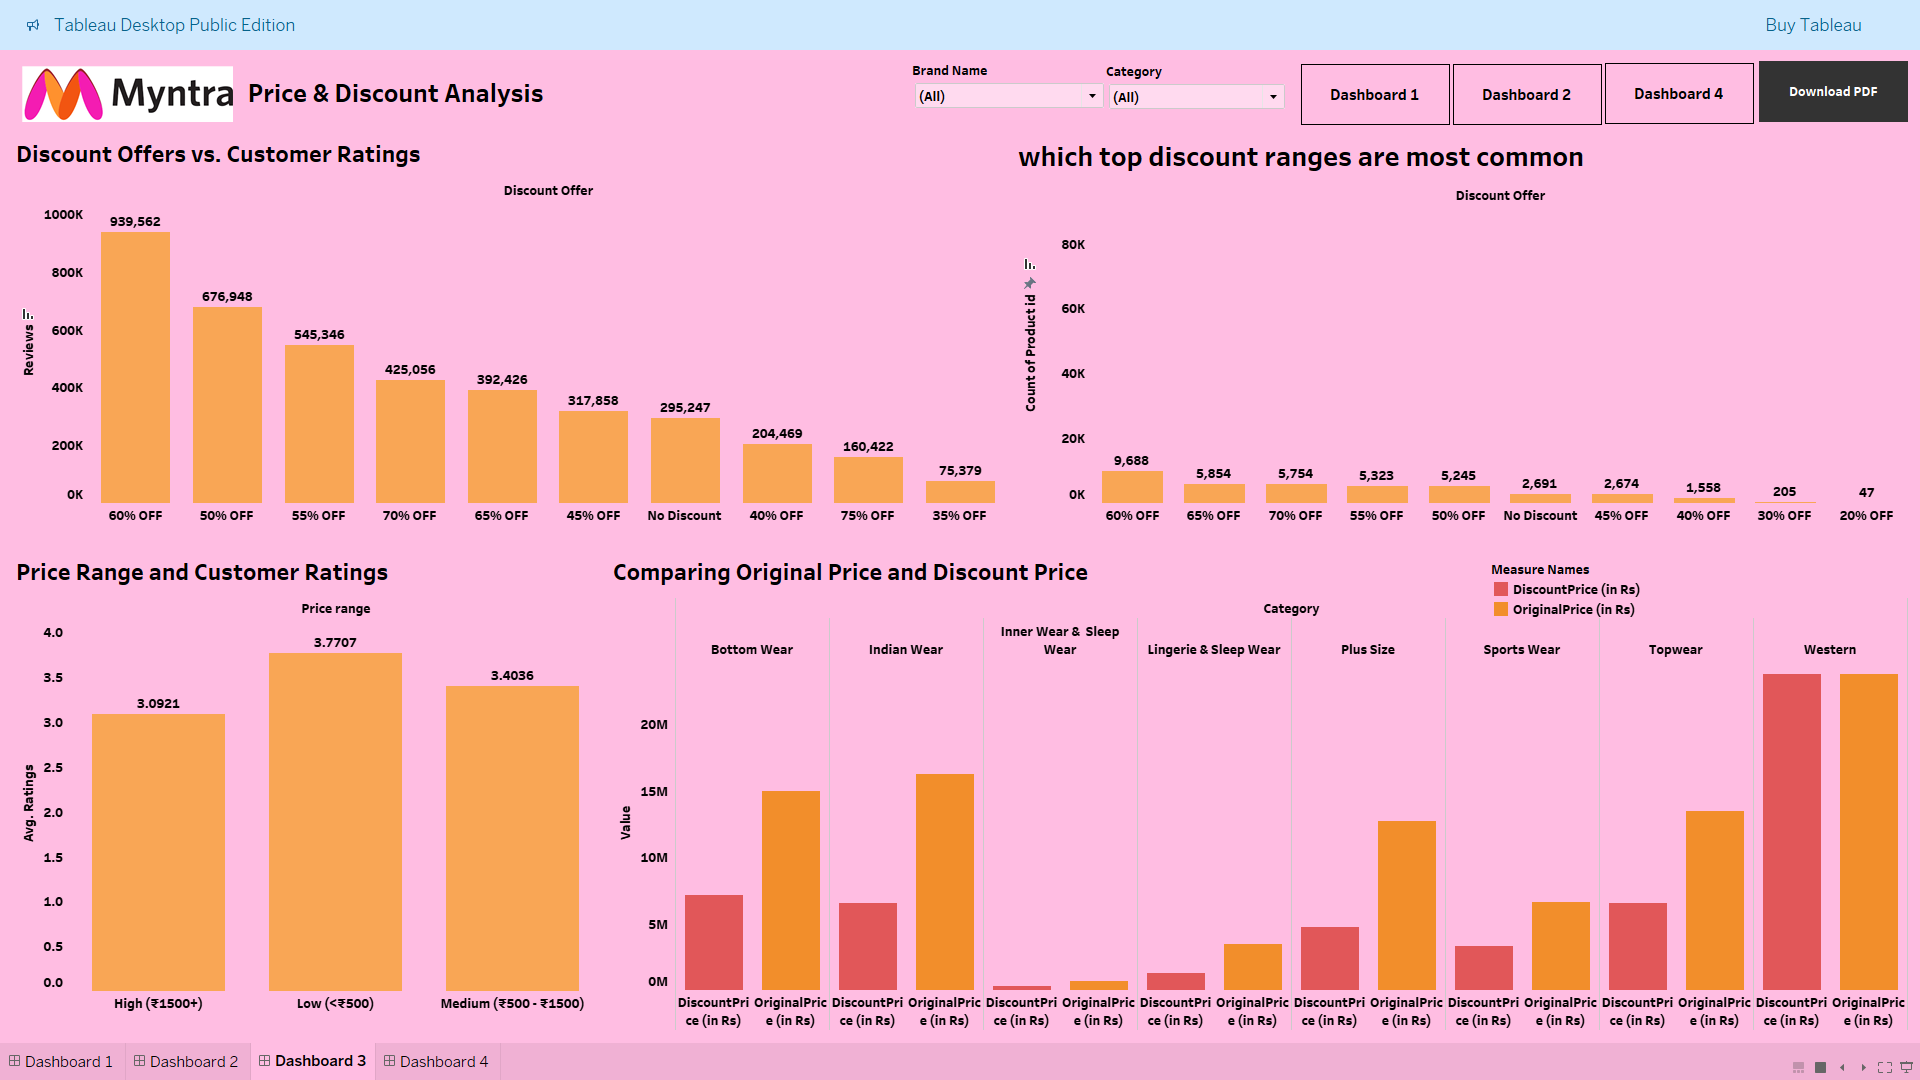

What the dashboard file says about the page in this screenshot:
{"tool":"tableau","page":{"name":"Dashboard 3","canvas":[1000,1000],"units":"permille","ordinal":2},"visuals":[{"type":"text","box":[122.5,7.5,344.1,69.9]},{"type":"dashboard-object","box":[914.3,7.5,81.9,69.9]},{"type":"dashboard-object","box":[833.6,8.7,81.9,69.9]},{"type":"image","param":"Image/Logo.png","box":[9.5,10,114.3,69.9]},{"type":"dashboard-object","box":[675.6,10,81.9,69.9]},{"type":"dashboard-object","box":[754.9,10,81.9,69.9]},{"type":"filter","title":"Comparing Original Price and Discount Price","param":"[federated.0ox6rot0ti0j8r0ztm70f11s7nil].[none:BrandName:nk]","box":[474.9,11.2,101.6,68.7]},{"type":"filter","title":"Comparing Original Price and Discount Price","param":"[federated.0ox6rot0ti0j8r0ztm70f11s7nil].[none:Category:nk]","box":[575.9,12.5,94.6,62.4]},{"type":"worksheet","title":"Discount Offers vs. Customer Ratings","mark":"Automatic","rows":["Reviews"],"cols":["DiscountOffer"],"box":[5.2,81.1,520.7,418.9]},{"type":"worksheet","title":"which top discount ranges are most common","mark":"Automatic","rows":["Product_id"],"cols":["DiscountOffer"],"box":[525.9,81.1,469,418.9]},{"type":"worksheet","title":"Price Range and Customer Ratings","mark":"Automatic","rows":["Ratings"],"cols":["Calculation_814870071775342593"],"box":[5.2,500,310.2,490]},{"type":"worksheet","title":"Comparing Original Price and Discount Price","mark":"Automatic","cols":["Category"],"box":[315.4,500,679.4,490]},{"type":"legend","title":"Comparing Original Price and Discount Price","param":"[federated.0ox6rot0ti0j8r0ztm70f11s7nil].[:Measure Names]","box":[776.8,513.1,126.3,78.7]}]}

Visuals, with their boxes on the dashboard's canvas, which has no fixed pixel size, in thousandths of its width and height (x1, y1, x2, y2). These are canvas units, not pixel positions in the 1920x1080 screenshot, which may show the page scaled, cropped or inside an application window:
text: <region>122, 8, 467, 77</region>
dashboard-object: <region>914, 8, 996, 77</region>
dashboard-object: <region>834, 9, 916, 79</region>
image: <region>10, 10, 124, 80</region>
dashboard-object: <region>676, 10, 758, 80</region>
dashboard-object: <region>755, 10, 837, 80</region>
"Comparing Original Price and Discount Price" filter: <region>475, 11, 576, 80</region>
"Comparing Original Price and Discount Price" filter: <region>576, 12, 670, 75</region>
"Discount Offers vs. Customer Ratings" worksheet: <region>5, 81, 526, 500</region>
"which top discount ranges are most common" worksheet: <region>526, 81, 995, 500</region>
"Price Range and Customer Ratings" worksheet: <region>5, 500, 315, 990</region>
"Comparing Original Price and Discount Price" worksheet: <region>315, 500, 995, 990</region>
"Comparing Original Price and Discount Price" legend: <region>777, 513, 903, 592</region>
